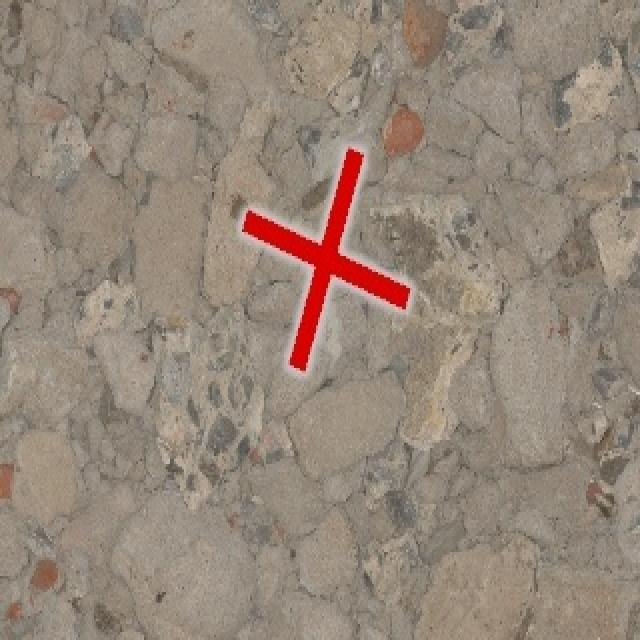x_marker: (241, 148, 409, 372)
